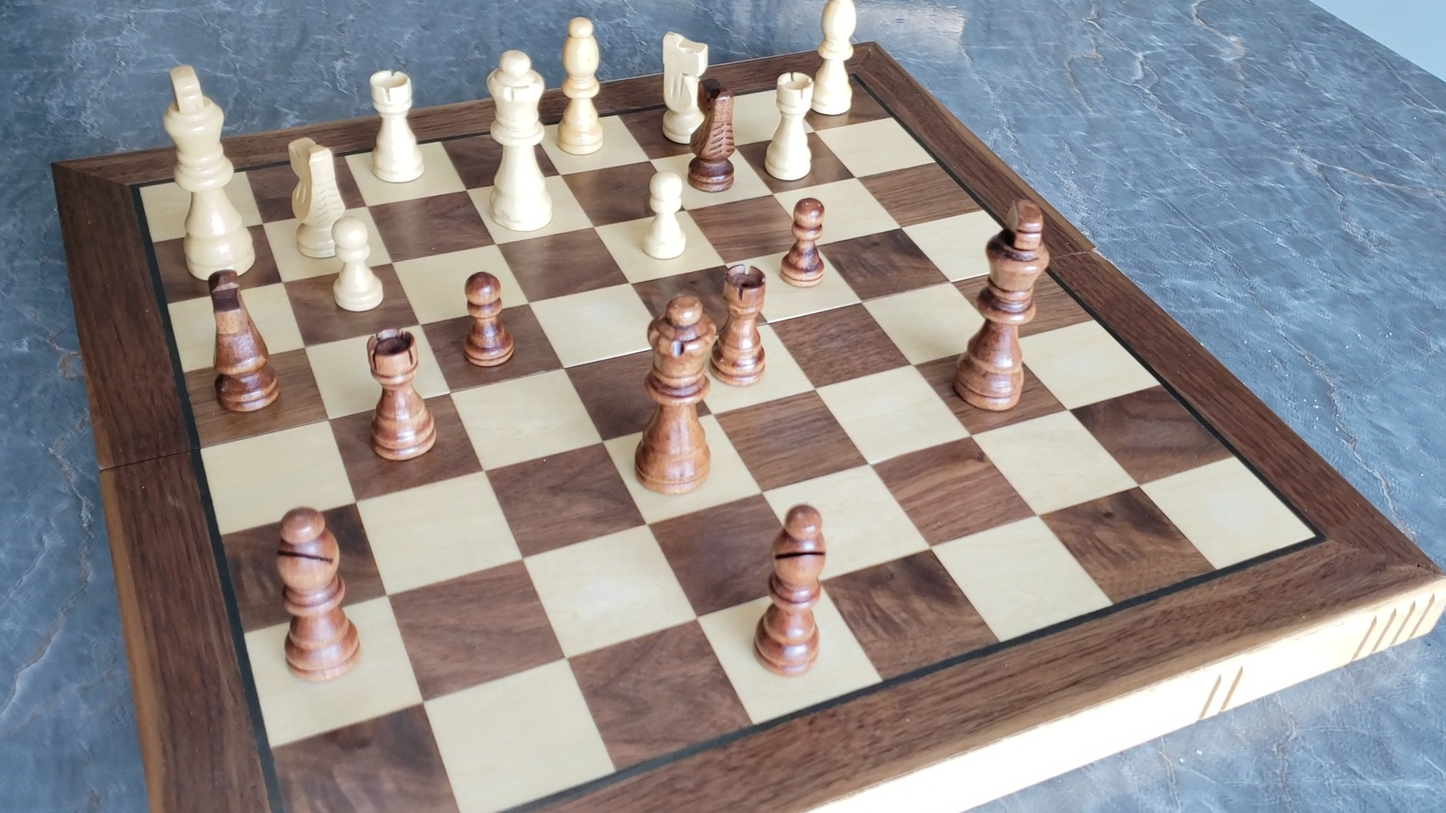black-bishop: (247, 502, 373, 689), (753, 492, 840, 682)
black-king: (955, 191, 1050, 441)
black-knight: (192, 270, 295, 428), (689, 75, 737, 192)
black-pawn: (460, 268, 515, 369), (780, 194, 829, 289)
black-queen: (632, 290, 719, 496)
black-rook: (364, 327, 437, 462), (714, 262, 769, 387)
white-bishop: (556, 11, 606, 158), (811, 0, 860, 119)
white-king: (158, 59, 256, 286)
white-knight: (283, 133, 350, 261), (655, 27, 712, 147)
white-pawn: (323, 211, 391, 317), (635, 164, 695, 265)
white-queen: (484, 45, 556, 235)
white-rook: (365, 65, 426, 186), (762, 68, 818, 185)
